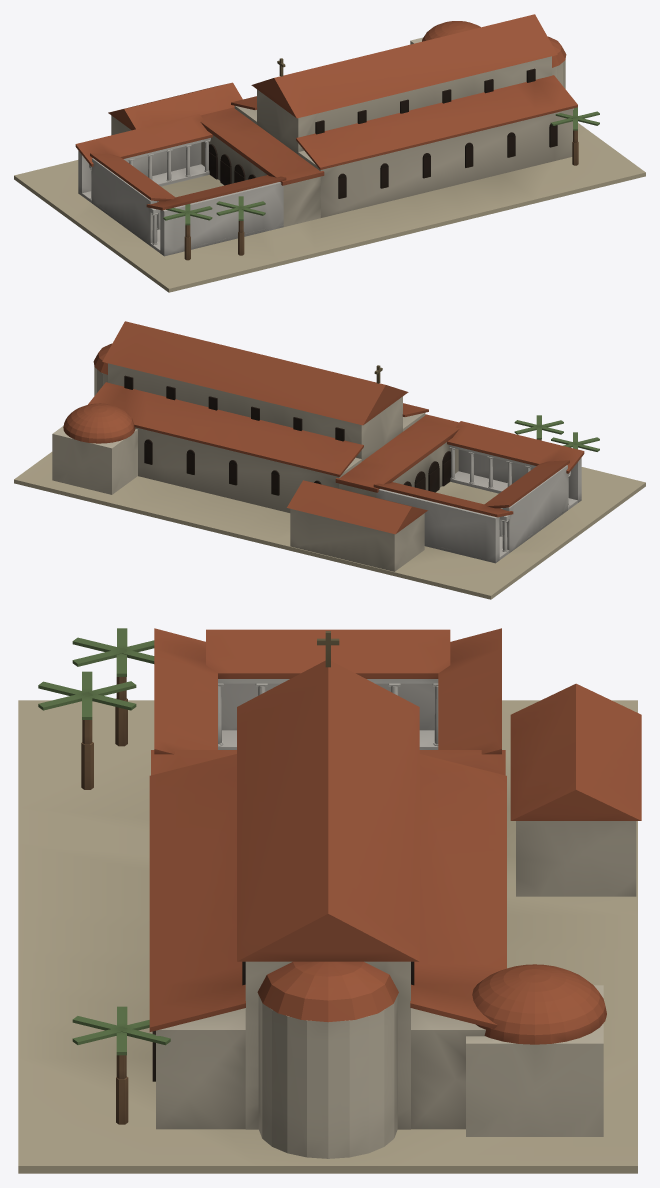
File: st-mark.glb
The picture shows the model from 3 angles, top to bottom: view 1: azimuth 30°, elevation 25°; view 2: azimuth 150°, elevation 25°; view 3: azimuth 270°, elevation 25°; orthographic projection. The views are drawn at different scales.
Parts seen in each view (by area): view 1: p1_stage1, p0_church, p2_chapel; view 2: p1_stage1, p0_church, p2_chapel; view 3: p1_stage1, p0_church, p2_chapel.
Boxes of the visible parts, x1,y1,x2,y2 form: p1_stage1: [75, 14, 577, 256]; p0_church: [14, 123, 645, 292]; p2_chapel: [108, 21, 599, 237]; p1_stage1: [88, 321, 584, 563]; p0_church: [14, 452, 645, 599]; p2_chapel: [52, 403, 599, 571]; p1_stage1: [149, 628, 506, 1158]; p0_church: [18, 700, 637, 1173]; p2_chapel: [38, 628, 641, 1136].
Size of the model in its own units: 64 by 16.77 by 36.2.
